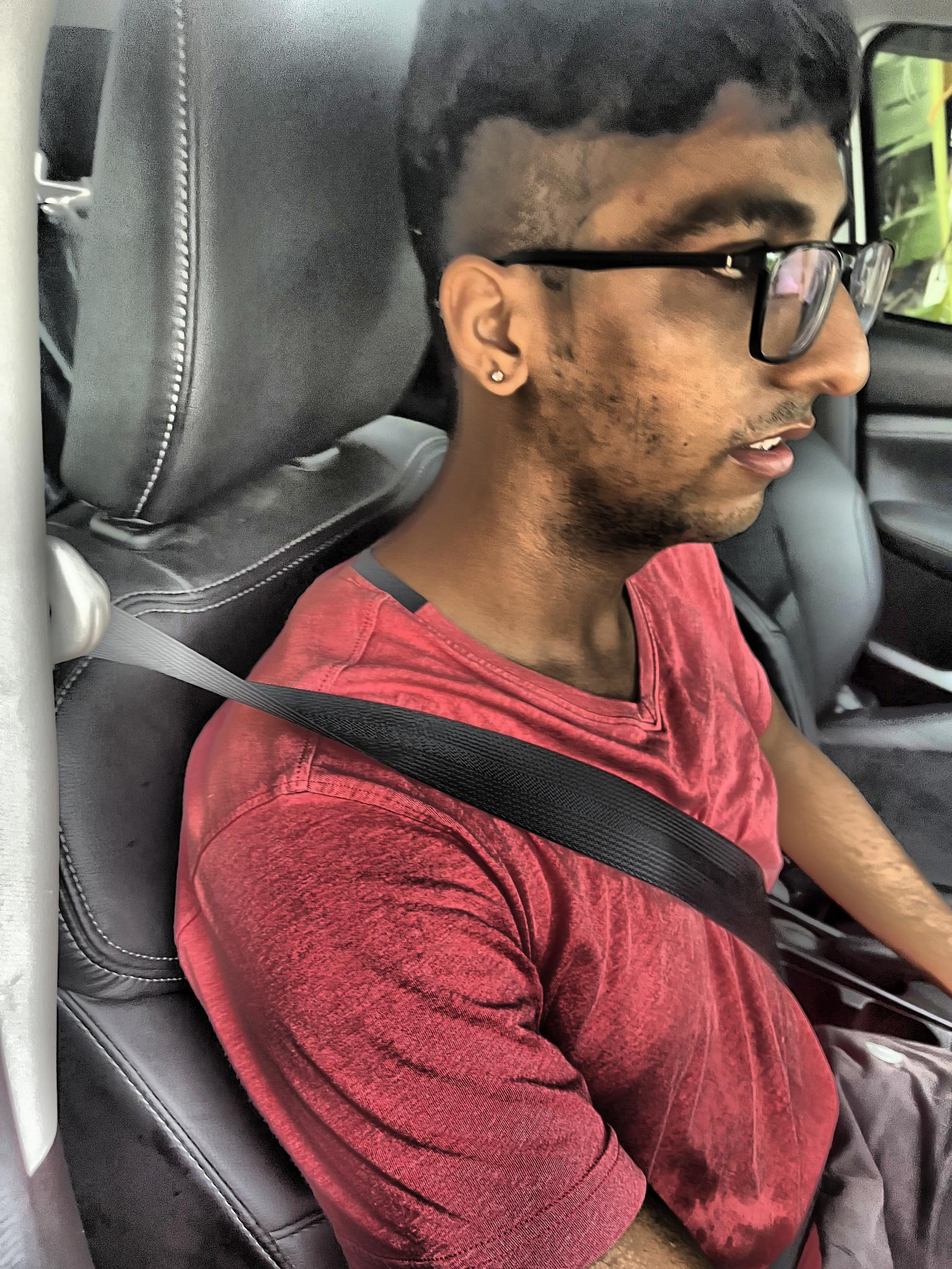seatbelt: (105, 561, 863, 973)
